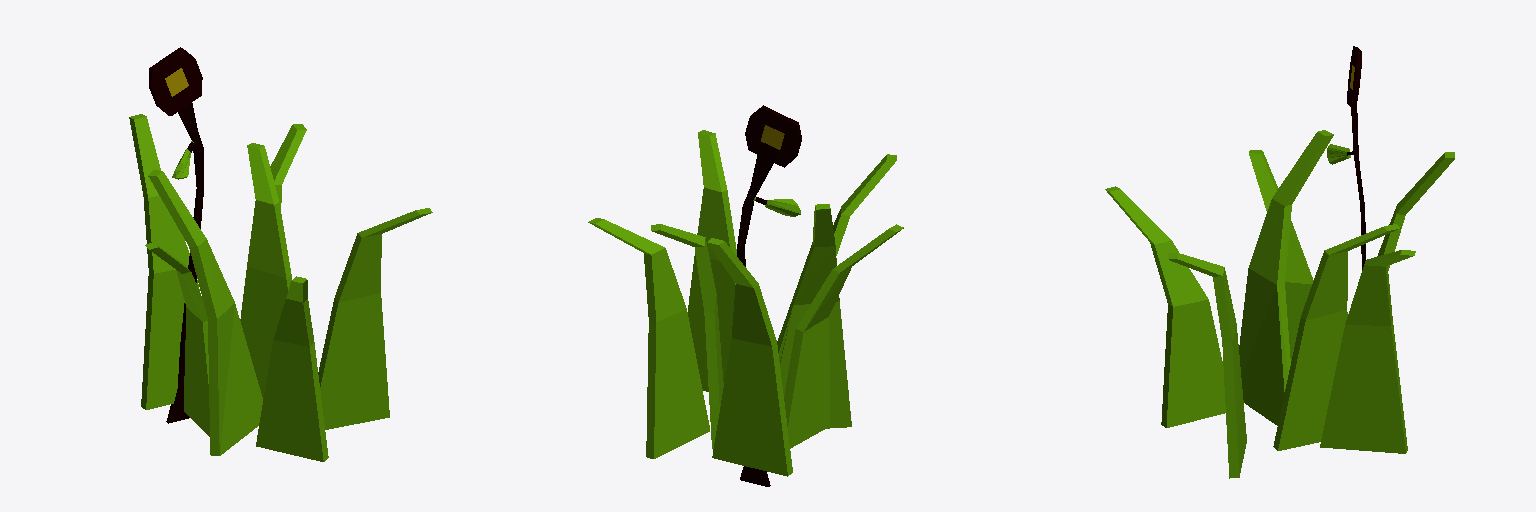
Rendered from Grass_02.obj.
The picture shows the model from 3 angles: view 1: azimuth 30°, elevation 25°; view 2: azimuth 150°, elevation 25°; view 3: azimuth 270°, elevation 25°; orthographic projection.
Parts seen in each view (by area): view 1: Plane.004_Plane.006; view 2: Plane.004_Plane.006; view 3: Plane.004_Plane.006.
Part boxes in pixels (x1,y1,x2,y2): Plane.004_Plane.006: (129, 47, 432, 461); Plane.004_Plane.006: (588, 105, 903, 486); Plane.004_Plane.006: (1105, 46, 1454, 478).
Bounding box in the file's own units: 0.8217 × 1.21 × 1.03.